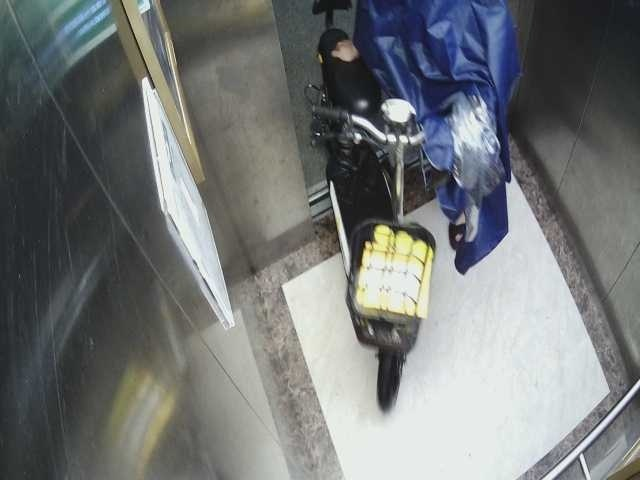emotor: (288, 5, 458, 403)
